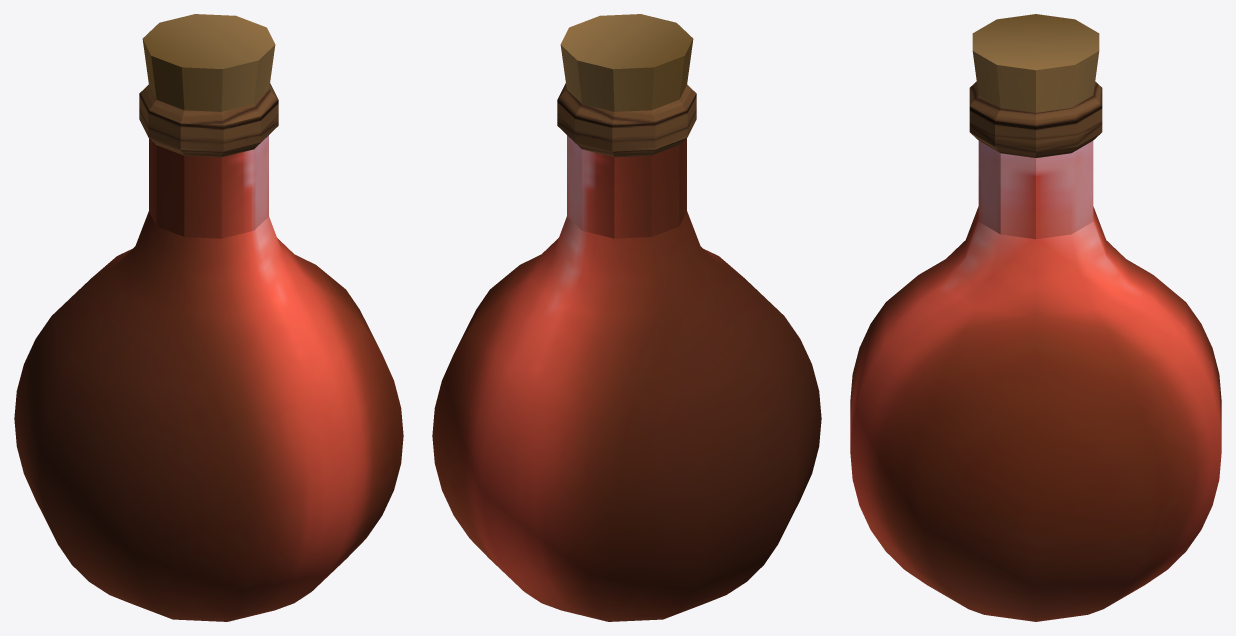
File: Potion2.fbx
The picture shows the model from 3 angles, left to right: view 1: azimuth 30°, elevation 25°; view 2: azimuth 150°, elevation 25°; view 3: azimuth 270°, elevation 25°; orthographic projection.
Visible parts, largest first — view 1: Bottle_01; view 2: Bottle_01; view 3: Bottle_01.
Boxes of the visible parts, x1,y1,x2,y2 form: Bottle_01: (14,14,403,621); Bottle_01: (432,14,821,621); Bottle_01: (850,14,1221,621).
Size of the model in its own units: 15.74 by 24.6 by 14.97.
Materials: 1 (1 with a texture image).
